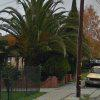Palm tree: (7, 1, 71, 83)
